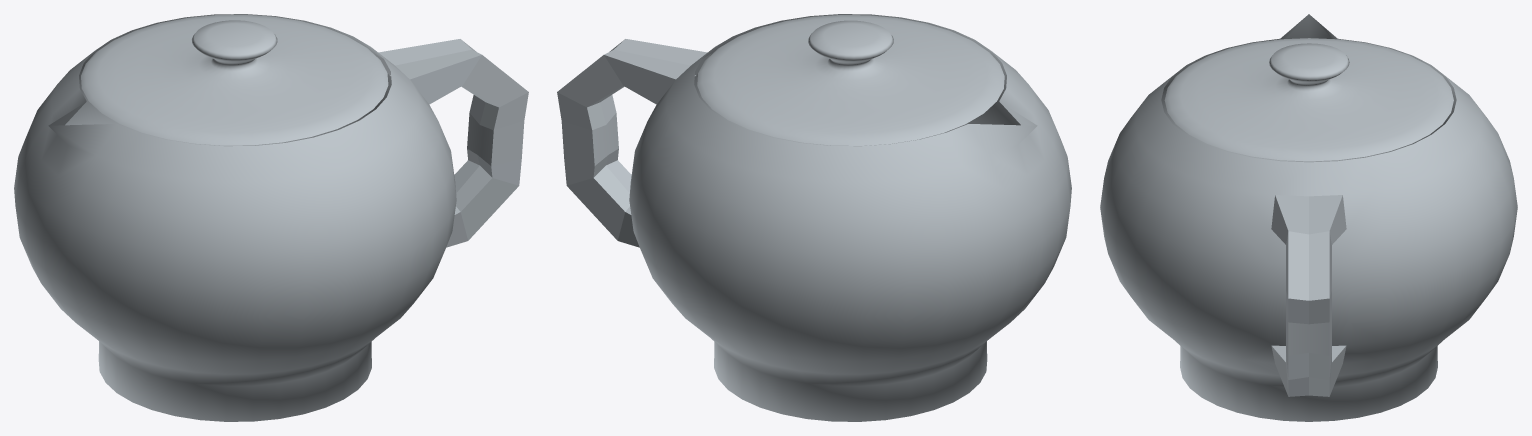
Rendered from coffee pot.fbx.
3 renders of one model, left to right at view 1: azimuth 30°, elevation 25°; view 2: azimuth 150°, elevation 25°; view 3: azimuth 270°, elevation 25°, orthographic. The views are drawn at different scales.
Visible parts, largest first — view 1: Sphere001, Object; view 2: Sphere001, Object; view 3: Sphere001, Object.
Part boxes in pixels (<box>): Sphere001: <box>14,14,528,421</box>; Object: <box>81,14,388,145</box>; Sphere001: <box>557,14,1071,421</box>; Object: <box>697,15,1004,145</box>; Sphere001: <box>1100,14,1517,421</box>; Object: <box>1164,38,1453,161</box>.
Bounding box in the file's own units: 18.94 × 12.58 × 15.33.
1 material, 1 textured.
